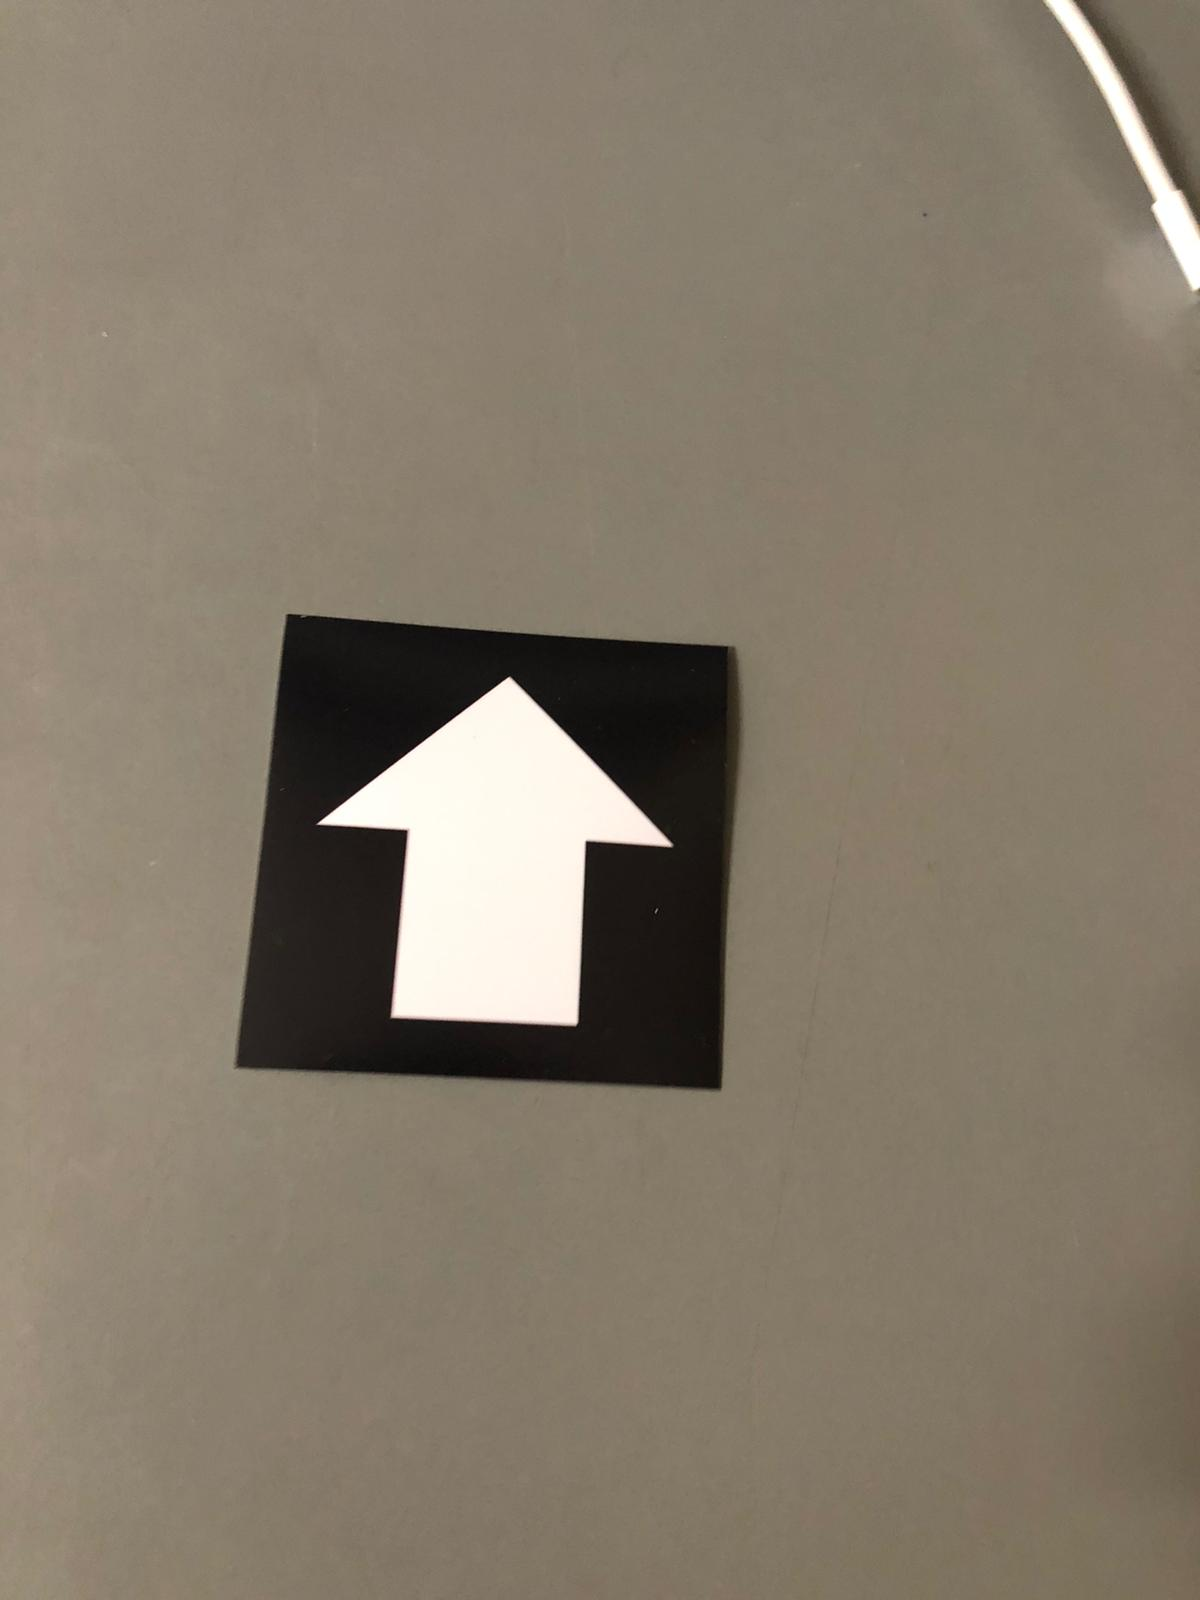Top Arrow: (296, 622, 707, 1091)
